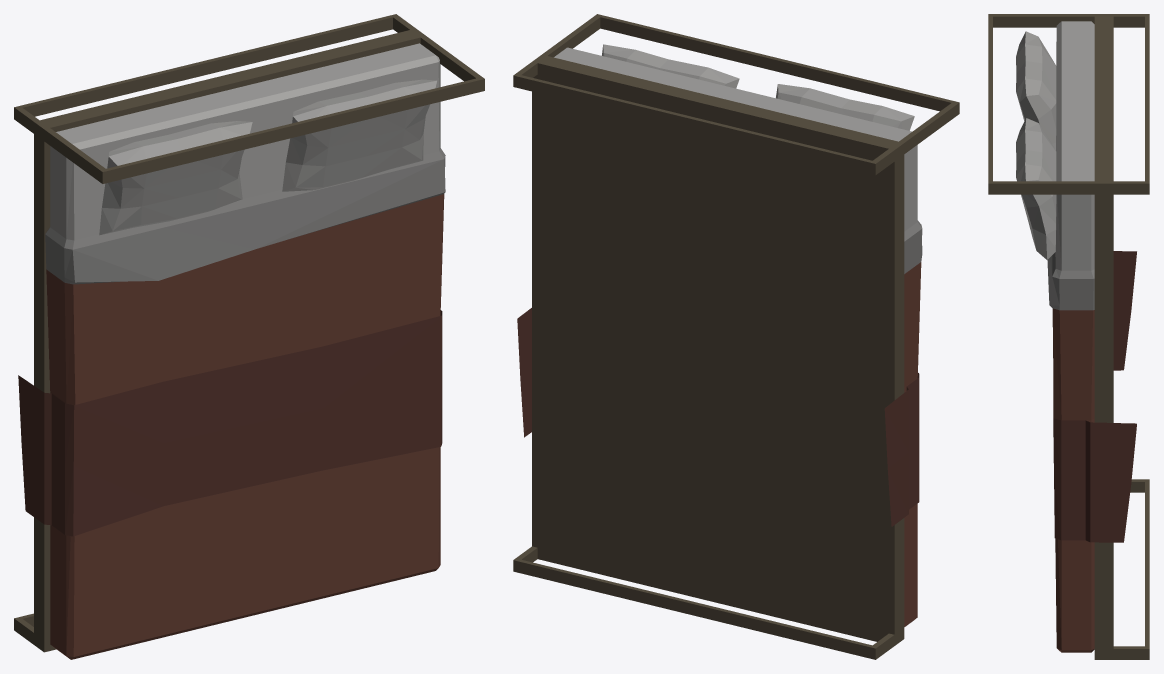
File: bed-king.obj
3 views of the same model, side by side, from view 1: azimuth 30°, elevation 25°; view 2: azimuth 150°, elevation 25°; view 3: azimuth 270°, elevation 25° (orthographic). The views are drawn at different scales.
Visible parts, largest first — view 1: bed-king; view 2: bed-king; view 3: bed-king.
Part boxes in pixels (x1,y1,x2,y2): bed-king: (14, 14, 484, 659); bed-king: (513, 14, 959, 659); bed-king: (988, 14, 1149, 659).
Size of the model in its own units: 80 by 103 by 31.71.
